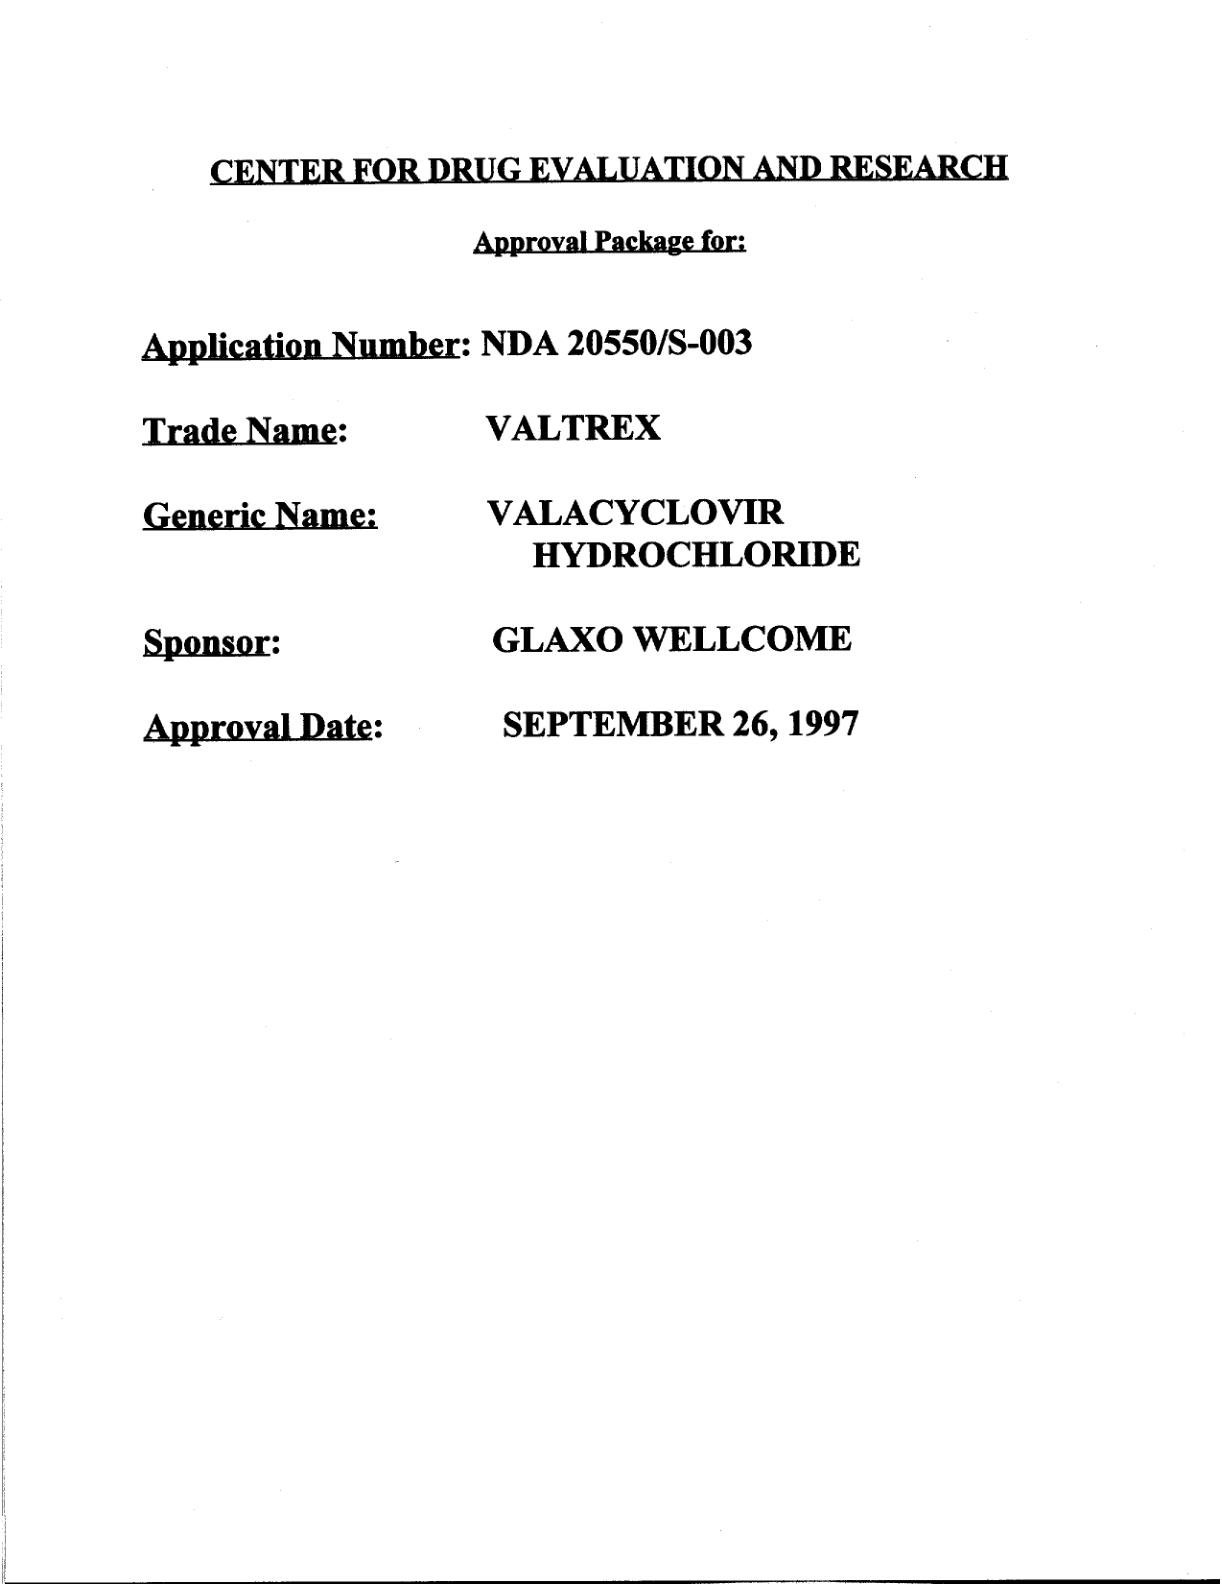nolines: (137, 327, 863, 750)
